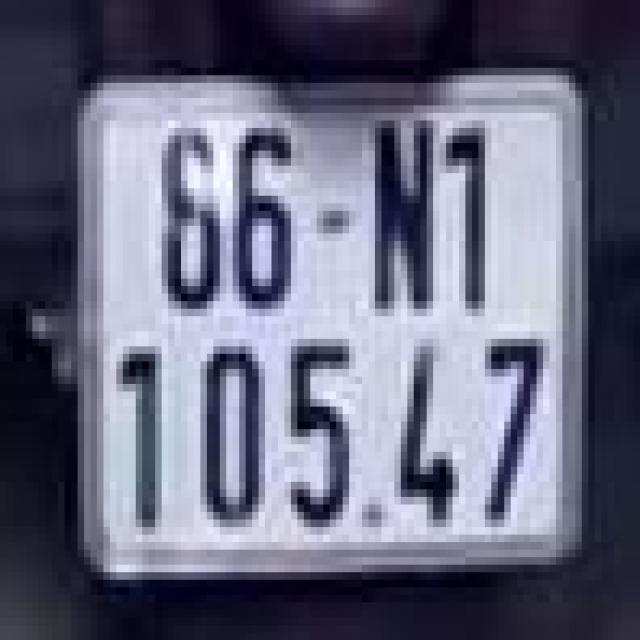0: (194, 331, 271, 550)
1: (106, 335, 178, 546), (443, 113, 501, 309)
4: (391, 339, 462, 527)
5: (278, 323, 362, 534)
6: (149, 109, 226, 320), (230, 102, 294, 320)
7: (482, 331, 546, 535)
N: (365, 116, 430, 312)
